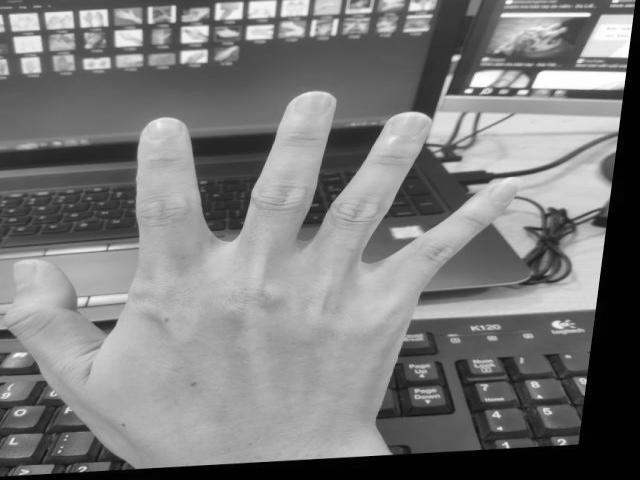not-gloved: (3, 92, 510, 466)
